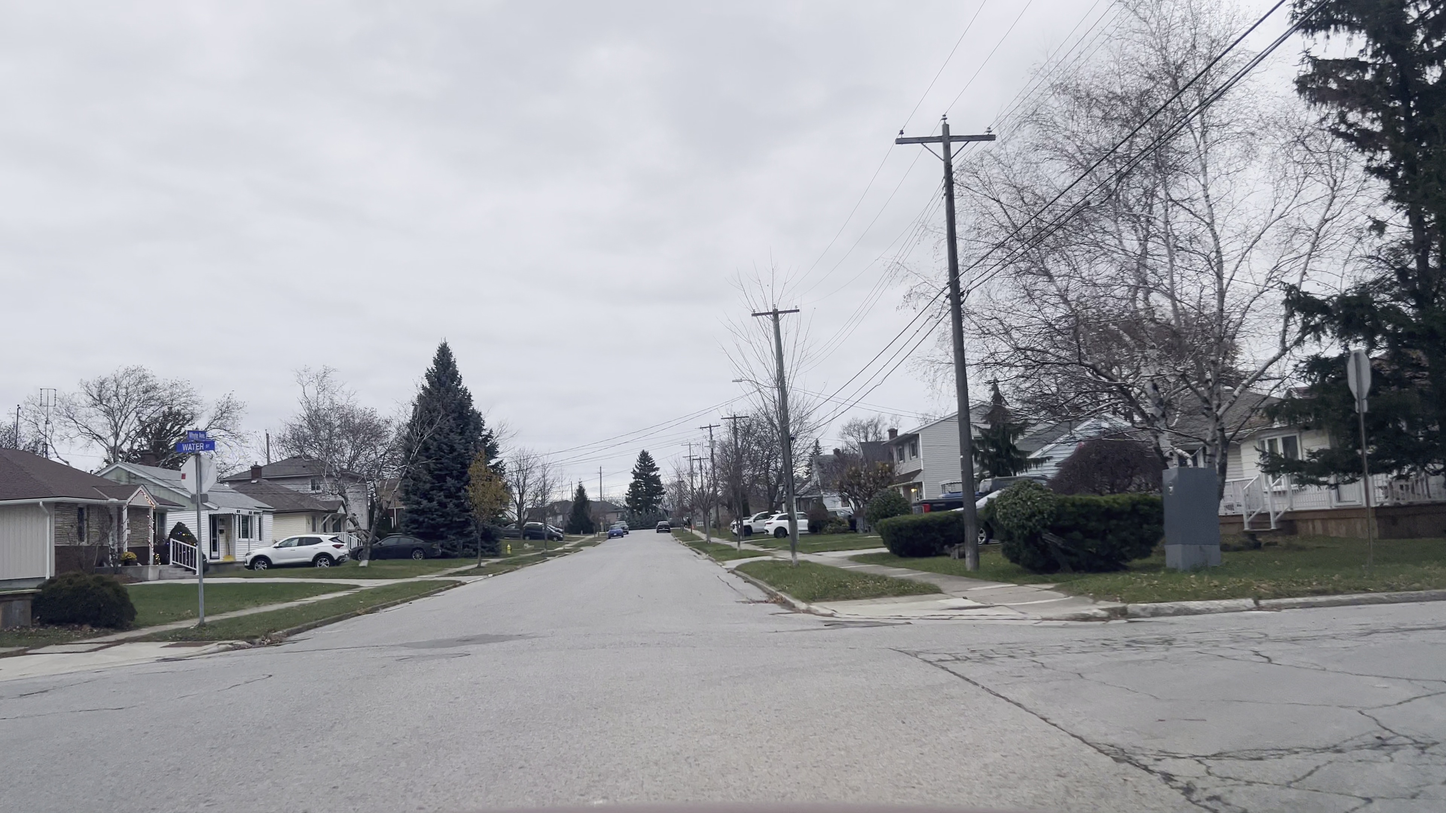cracks: (1073, 721, 1250, 810), (1261, 730, 1436, 773), (909, 631, 1068, 671), (1082, 629, 1205, 665)
